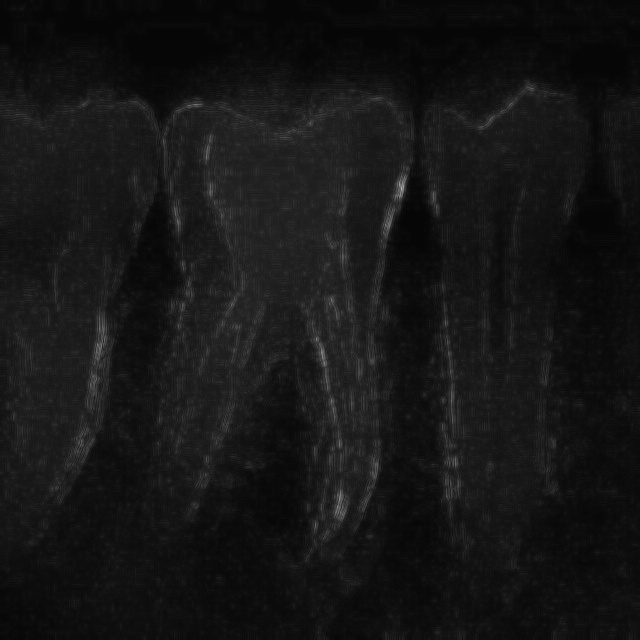Class 0- No endodontic treatment: (137, 66, 410, 600)
cavity: (396, 44, 627, 624)
